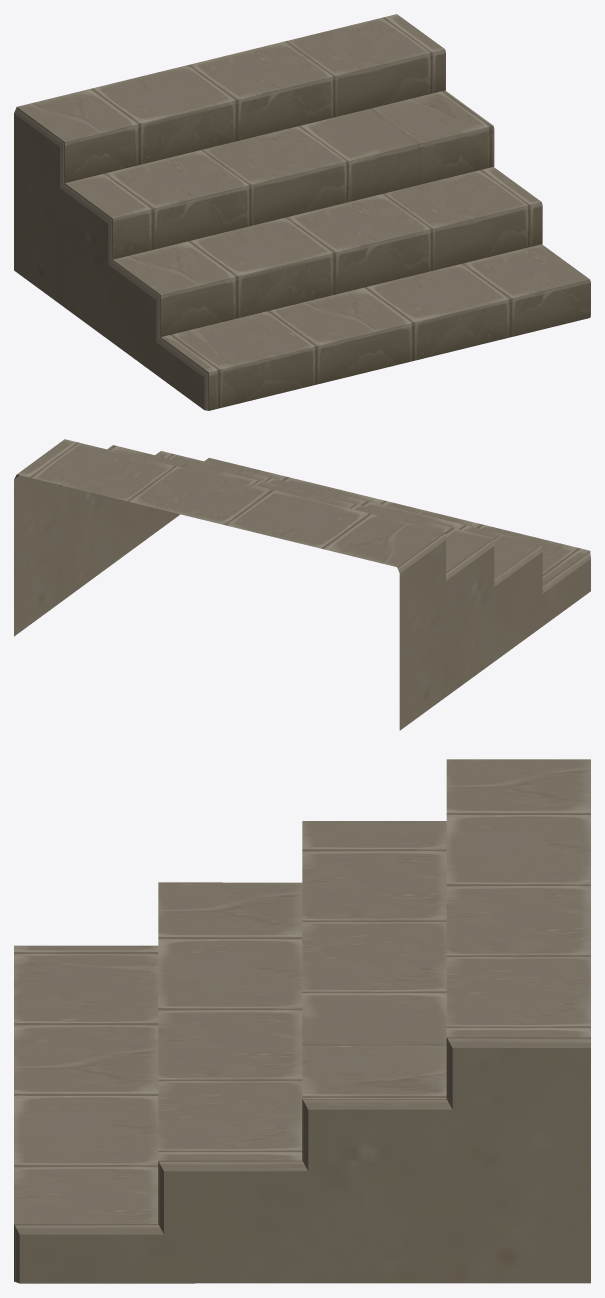
The model's file is RockStaris.fbx.
3 renders of one model, top to bottom at view 1: azimuth 30°, elevation 25°; view 2: azimuth 150°, elevation 25°; view 3: azimuth 270°, elevation 25°, orthographic. The views are drawn at different scales.
Visible parts, largest first — view 1: RockStaris; view 2: RockStaris; view 3: RockStaris.
Part boxes in pixels (x1,y1,x2,y2): RockStaris: (14,14,590,410); RockStaris: (14,439,590,730); RockStaris: (14,759,590,1283).
Size of the model in its own units: 987 by 397 by 852.
